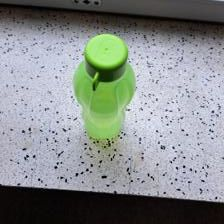bottle: (71, 32, 136, 142)
